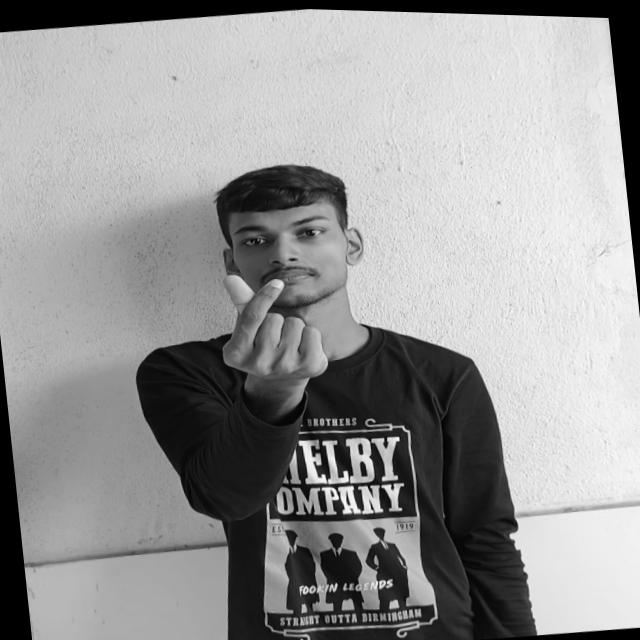Grattitude: (213, 262, 333, 387)
